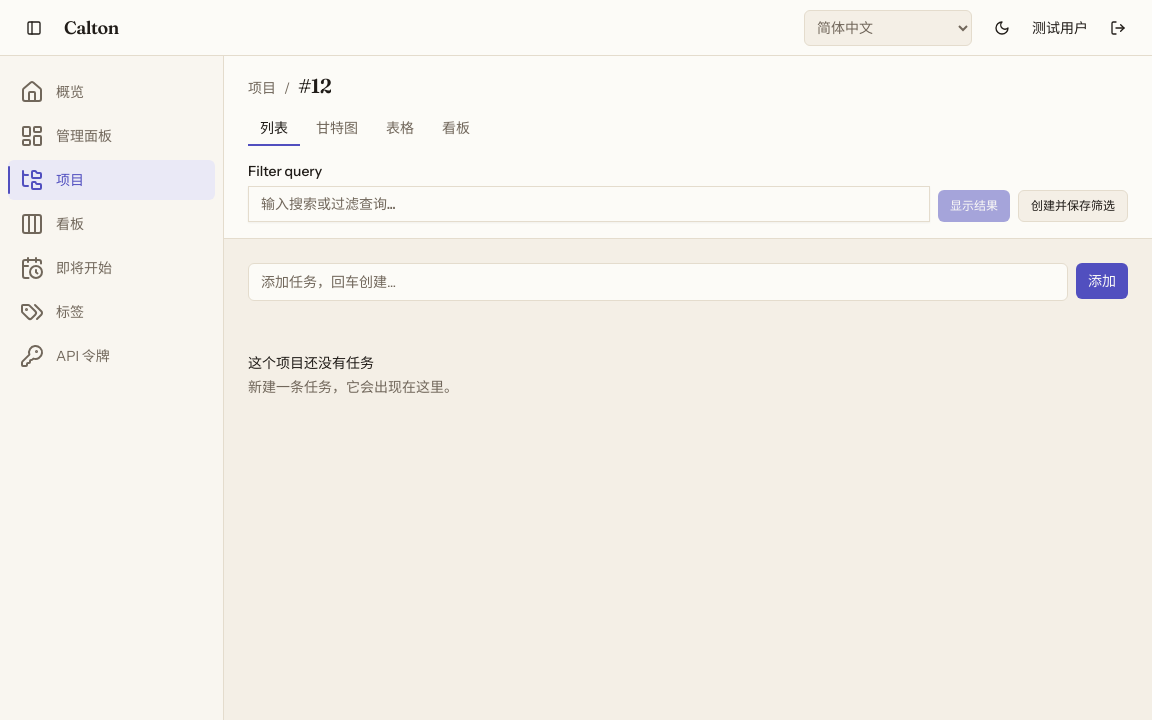
Test: 视图容器：四种 kind 共用一个容器 › 切换视图不重新拉 views（同一项目的视图集合应命中缓存）
Expected: the element with test id "list-view" is shown, [248,263,1128,396]
// 收窄到「视图切换」导航：侧栏全局看板入口也叫「看板」，整屏查会撞名
Click the link "看板" next to "表格". click: (456, 128)
box: [442,119,470,137]
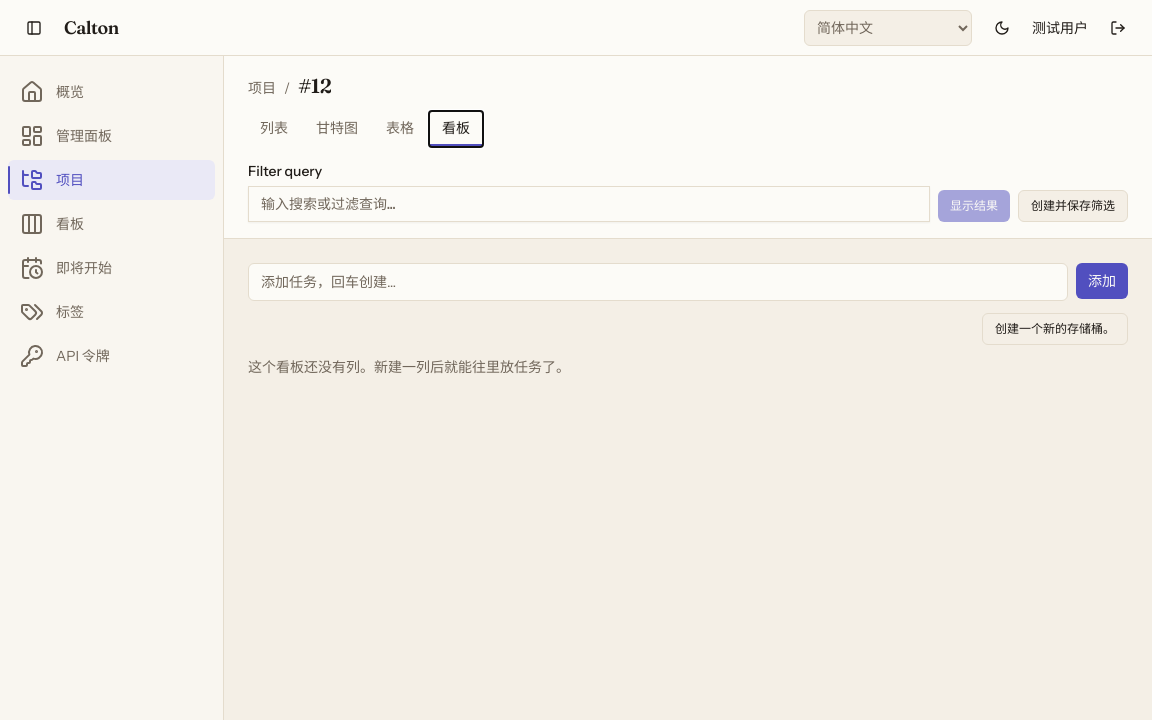
Expected: the element with test id "kanban-view" is shown, [248,263,1128,376]
